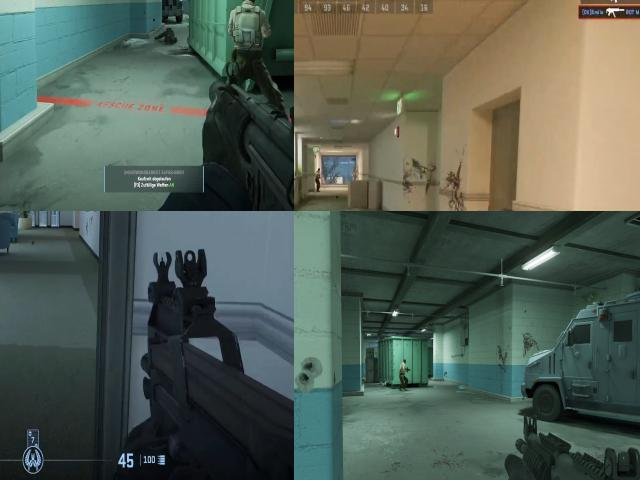Dead: (156, 24, 183, 51)
T: (225, 0, 268, 69), (313, 166, 324, 192), (399, 359, 408, 390), (315, 167, 321, 174)
T-Head: (234, 0, 260, 10), (402, 359, 406, 362)
